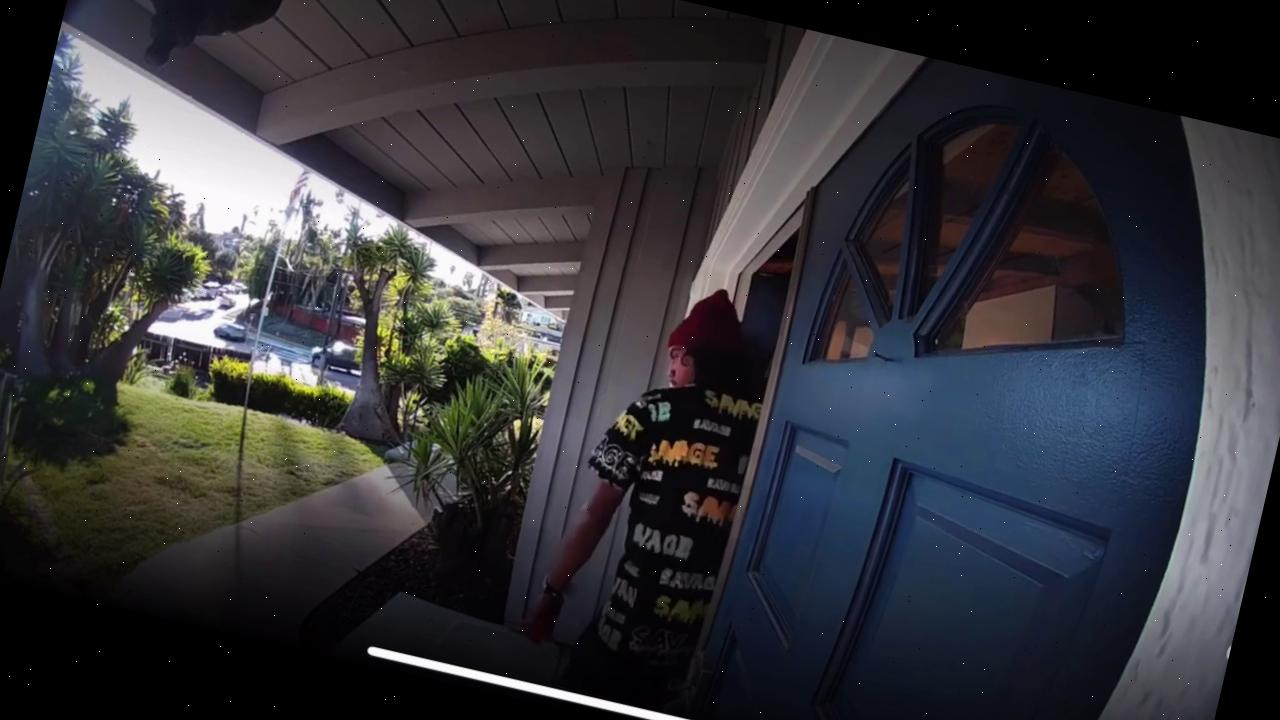suspicion: (430, 232, 832, 720)
